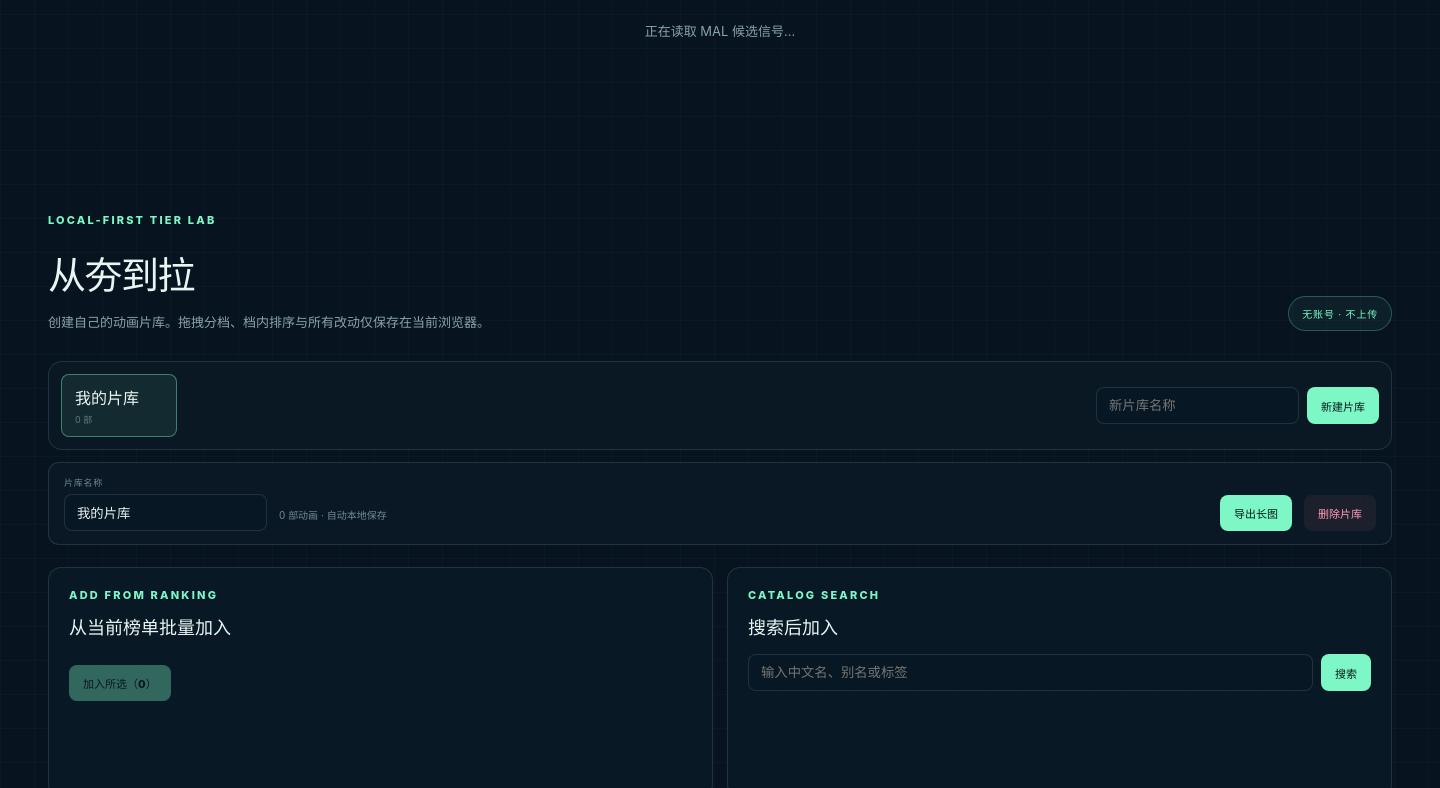
App › creates and renames an independent local library
(page scrolled)
Expected: the heading "从当前榜单批量加入" is shown, left=69, top=617, right=231, bottom=638
In the field labelled "新片库名称": (1198, 406) left=1096, top=387, right=1299, bottom=424, type "2026 春番"
(page scrolled)
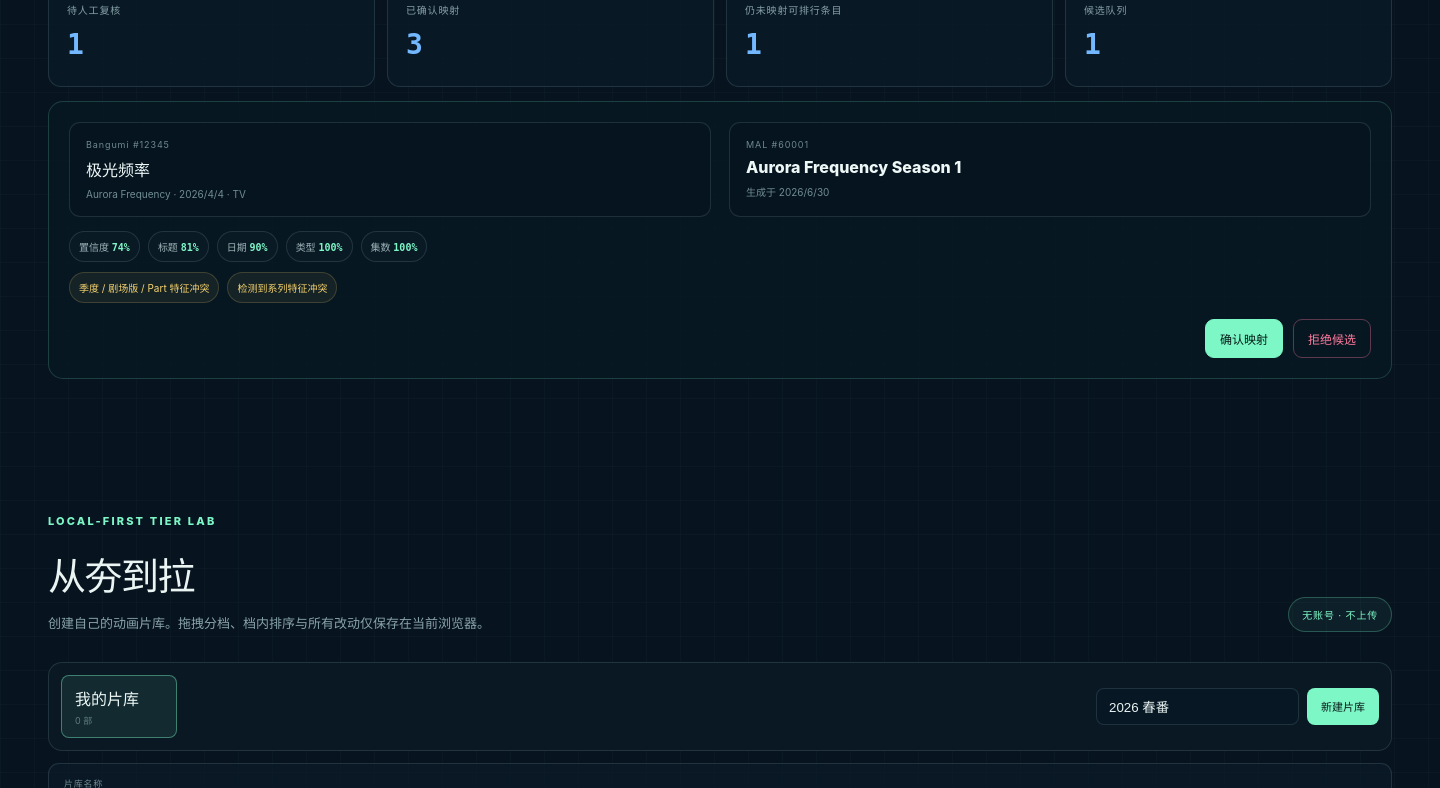
Click the button "新建片库": (1343, 706) left=1307, top=688, right=1379, bottom=724
(page scrolled)
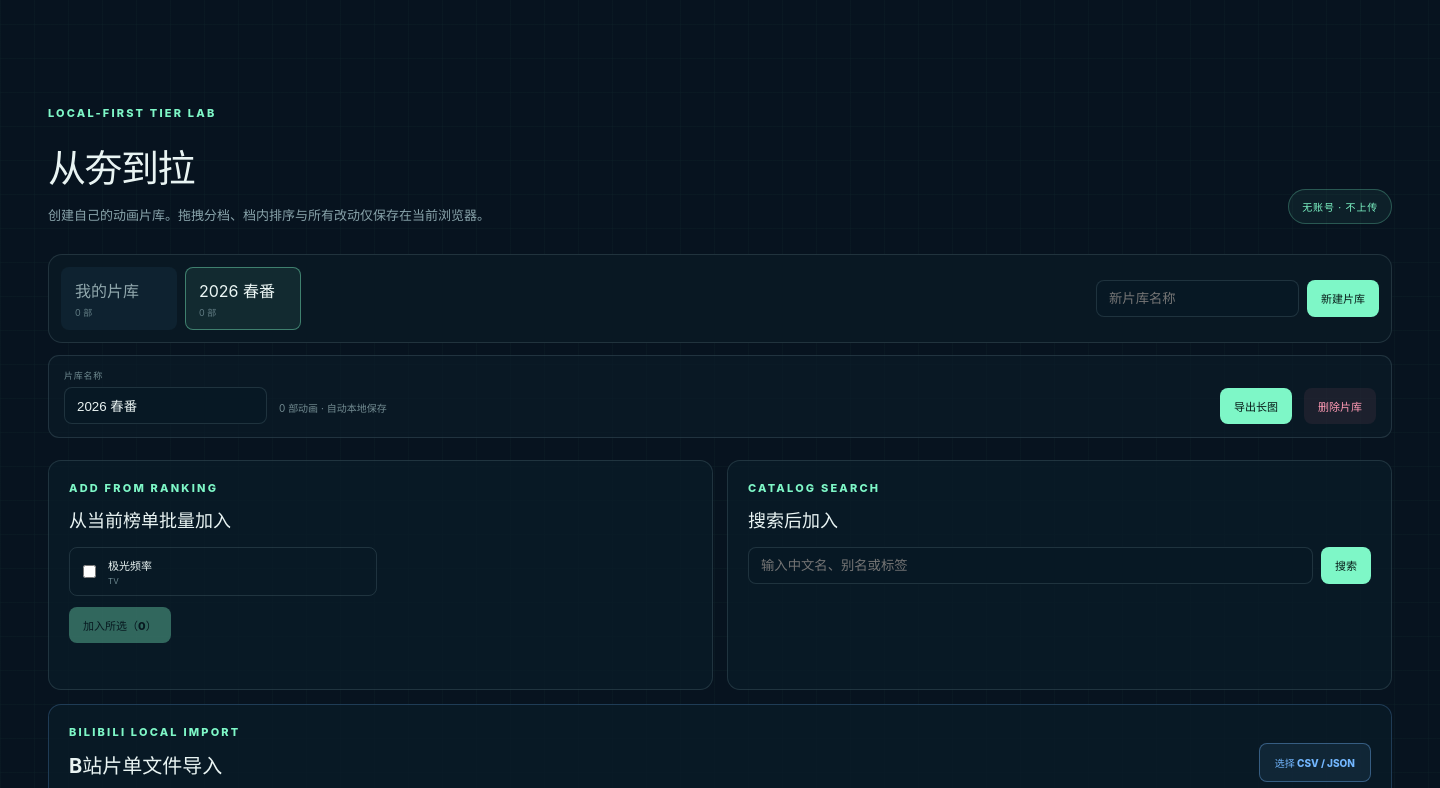
Expected: the tab "2026 春番 0 部" is shown, left=185, top=266, right=301, bottom=330
Replace the text in the field labelled "片库名称" with "春番补完": (166, 405) left=64, top=386, right=267, bottom=424
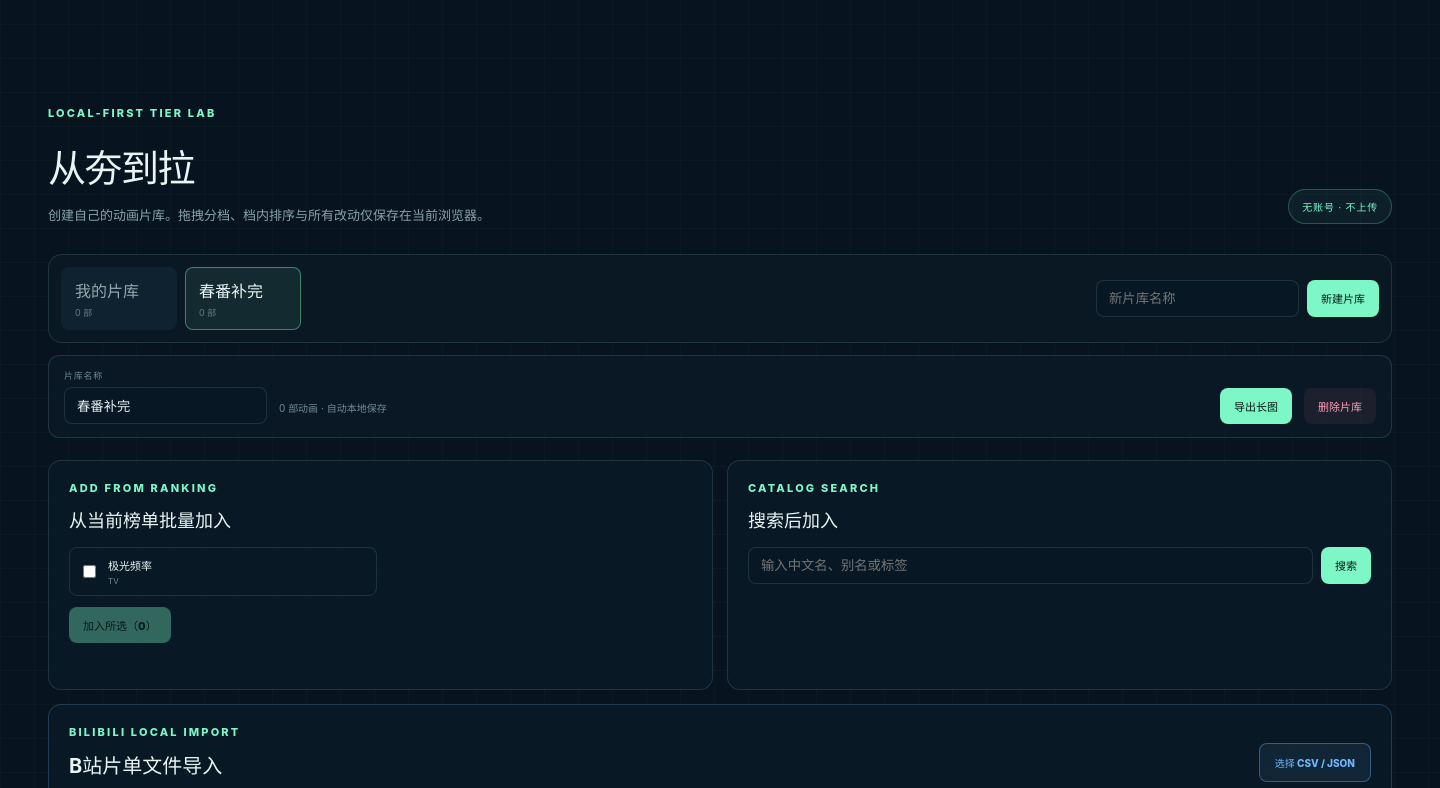
Expected: the tab "春番补完 0 部" is shown, left=185, top=266, right=301, bottom=330
